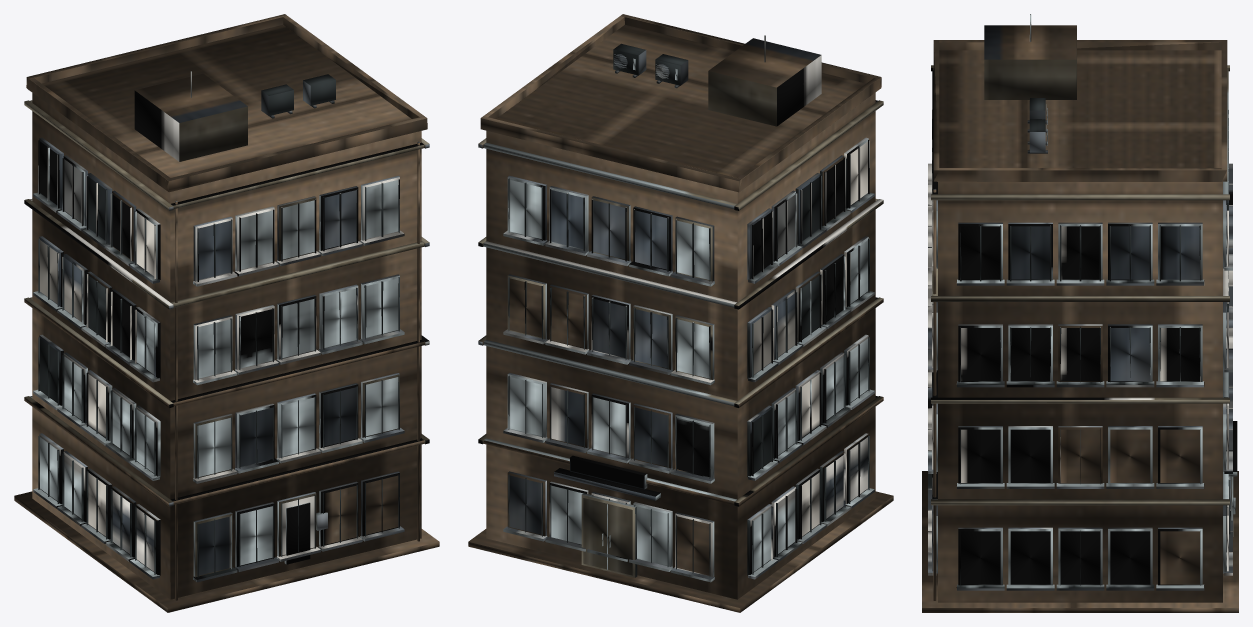
File: office_003.lod1.obj
3 renders of one model, left to right at view 1: azimuth 30°, elevation 25°; view 2: azimuth 150°, elevation 25°; view 3: azimuth 270°, elevation 25°, orthographic. The views are drawn at different scales.
Visible parts, largest first — view 1: office_003; view 2: office_003; view 3: office_003.
Boxes of the visible parts, <box> form: office_003: <box>14,14,439,612</box>; office_003: <box>468,14,893,612</box>; office_003: <box>922,14,1238,612</box>.
Bounding box in the file's own units: 9.1 × 15.5 × 8.9.
Materials: 1 (1 with a texture image).
